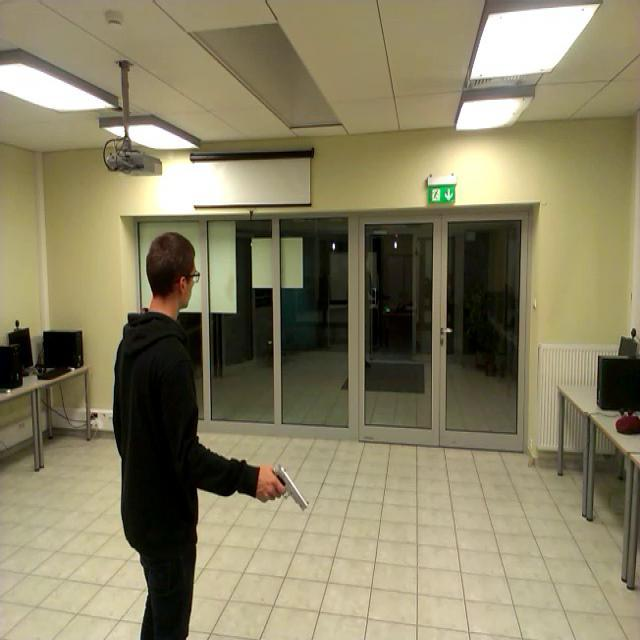Gun: (264, 463, 308, 510)
